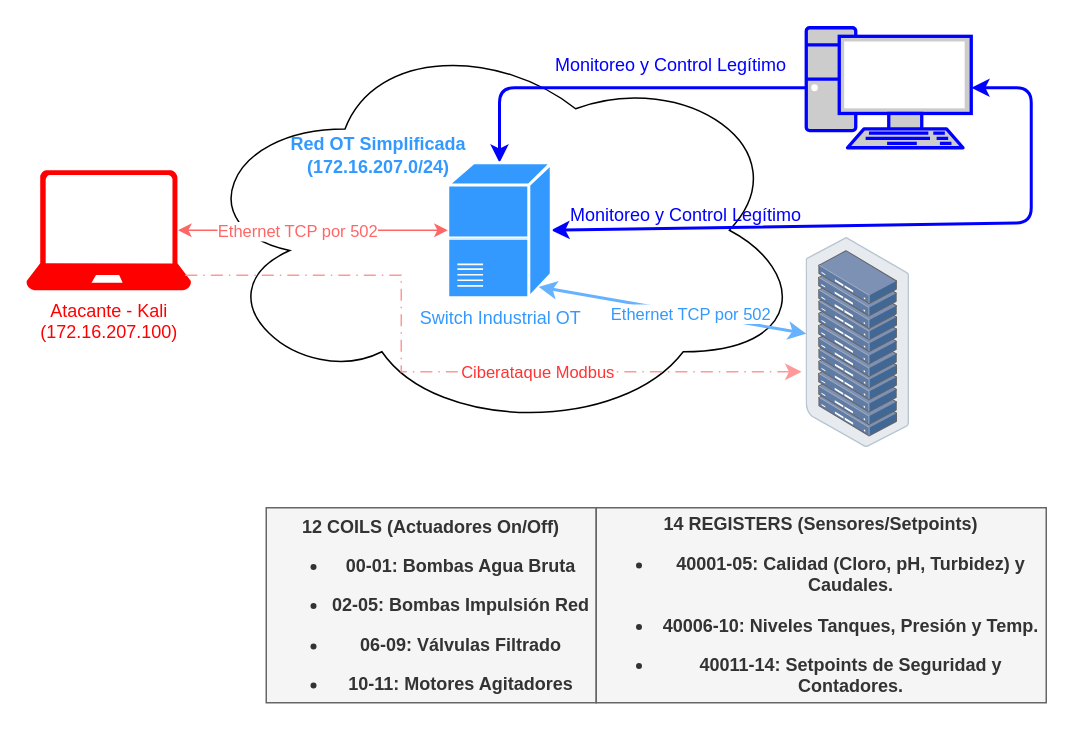
The diagram is 1073 pixels wide and 740 high, and some of its shapes have lost their labels. The centre of each missing label's shape, as x and y in pixels:
"Esclavo Modbus - PLC ETAP Colmenar Viejo (172.16.207 .20) Unit ID: 1" goes at (x=857, y=342).
"Maestro Modbus - HMI/SCADA (172.16.207.20)" goes at (x=888, y=87).
